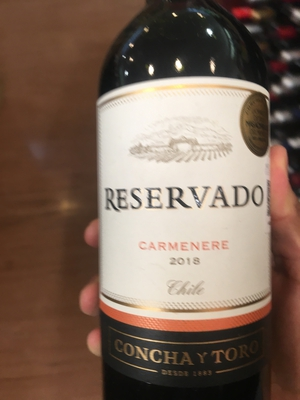reservado carmenere: (89, 6, 275, 400)
